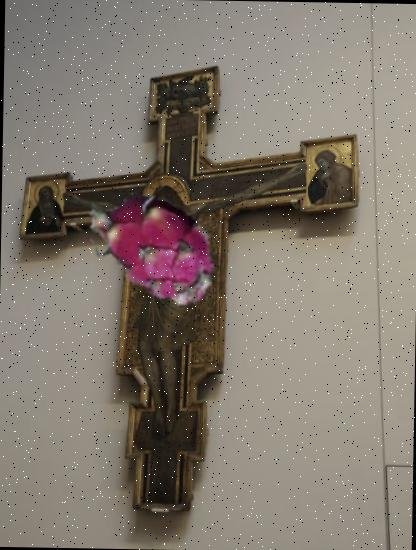Pitahaya: (79, 170, 229, 320)
